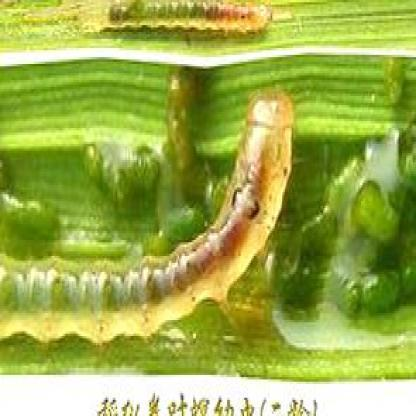leaf-folder: (0, 91, 306, 359), (85, 0, 274, 41)
